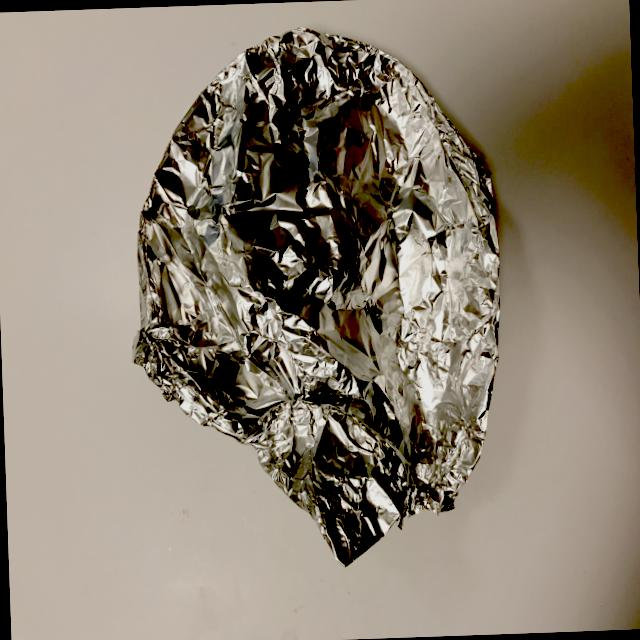Metal: (92, 0, 536, 583)
